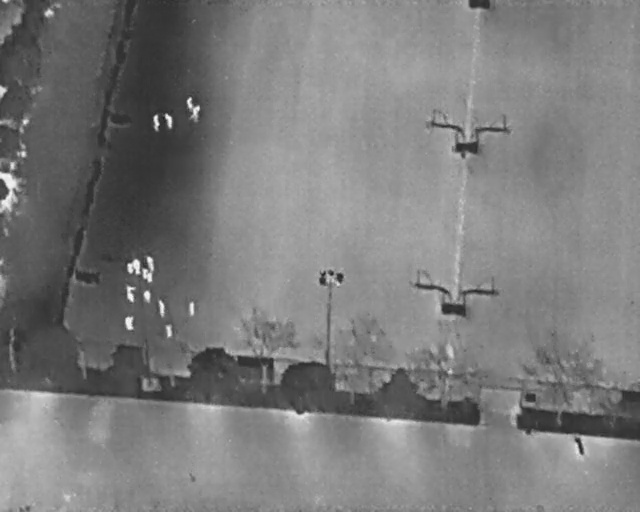Bicycle: (570, 433, 588, 458)
Person: (186, 102, 205, 124), (161, 110, 175, 130), (143, 254, 157, 273), (184, 93, 197, 112), (124, 285, 137, 304), (157, 298, 167, 320), (123, 315, 135, 332), (151, 113, 161, 132), (131, 259, 142, 276), (187, 301, 197, 319), (163, 322, 173, 340), (143, 289, 151, 304), (126, 262, 135, 274), (145, 271, 154, 282), (141, 269, 148, 279)
